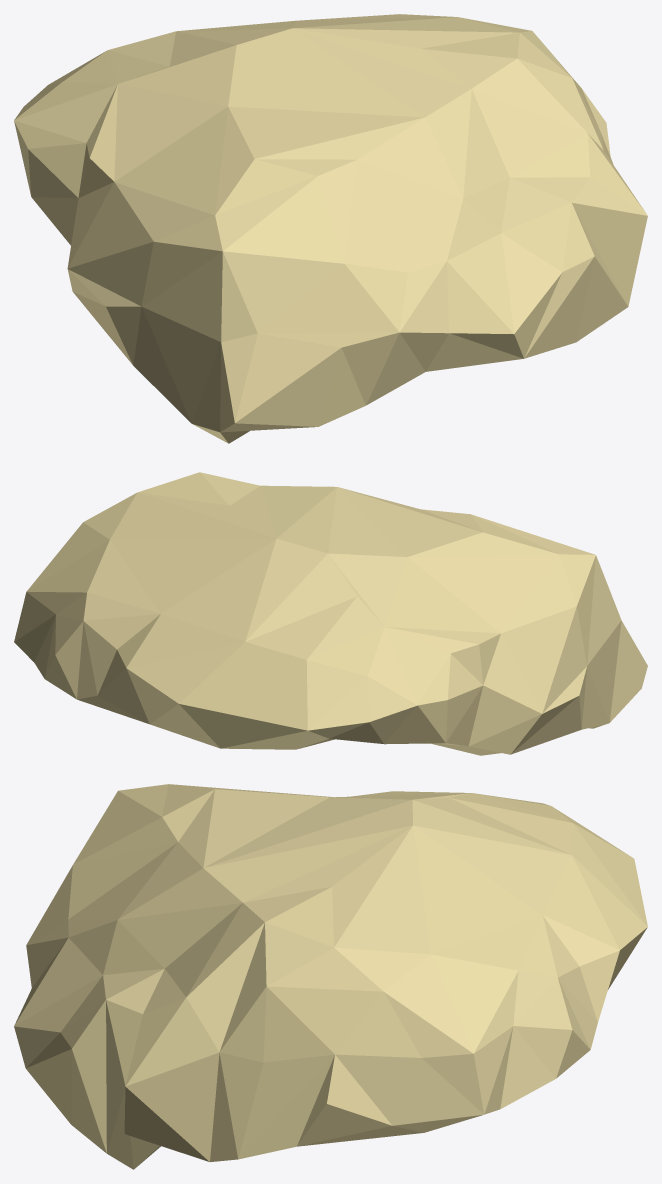
File: HIll.fbx
3 views of the same model, one above another, from view 1: azimuth 30°, elevation 25°; view 2: azimuth 150°, elevation 25°; view 3: azimuth 270°, elevation 25° (orthographic). The views are drawn at different scales.
Visible parts, largest first — view 1: Hill; view 2: Hill; view 3: Hill.
Part boxes in pixels (x1,y1,x2,y2): Hill: (14,14,647,443); Hill: (14,472,647,755); Hill: (14,784,647,1169).
Size of the model in its own units: 1358 by 639 by 1330.
